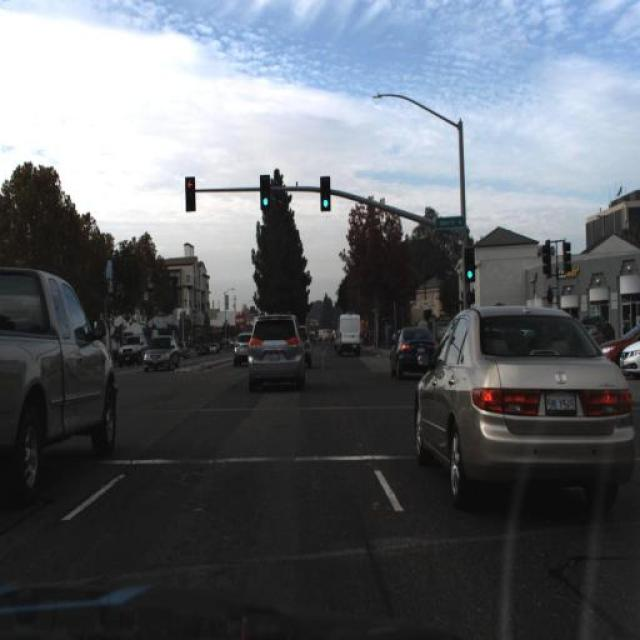car: (411, 298, 638, 520), (0, 263, 120, 507), (240, 306, 310, 398), (384, 320, 440, 386), (332, 305, 368, 367), (139, 329, 185, 377), (596, 316, 638, 360), (230, 320, 252, 376), (231, 324, 253, 374), (338, 312, 362, 347), (208, 342, 221, 356), (198, 342, 208, 358)
trafficLight-Green: (181, 171, 201, 218), (316, 172, 336, 216), (256, 169, 274, 217), (463, 248, 478, 284)
trafficLight-GreenLeft: (459, 242, 478, 287)
